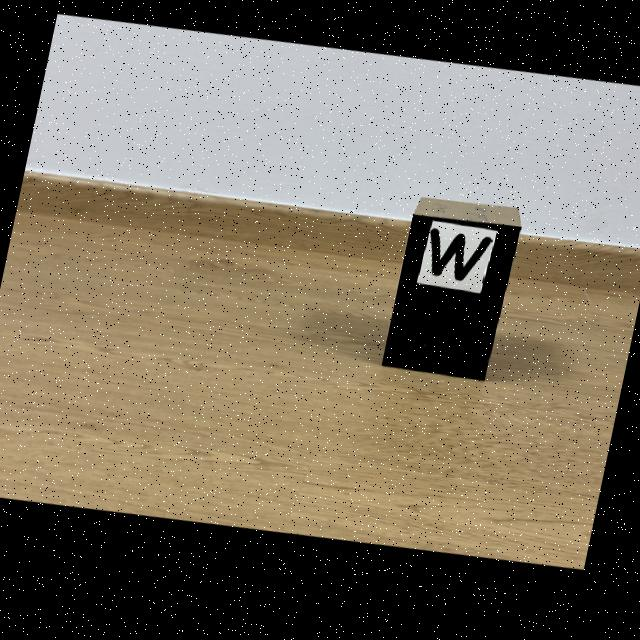W: (430, 236, 492, 289)
